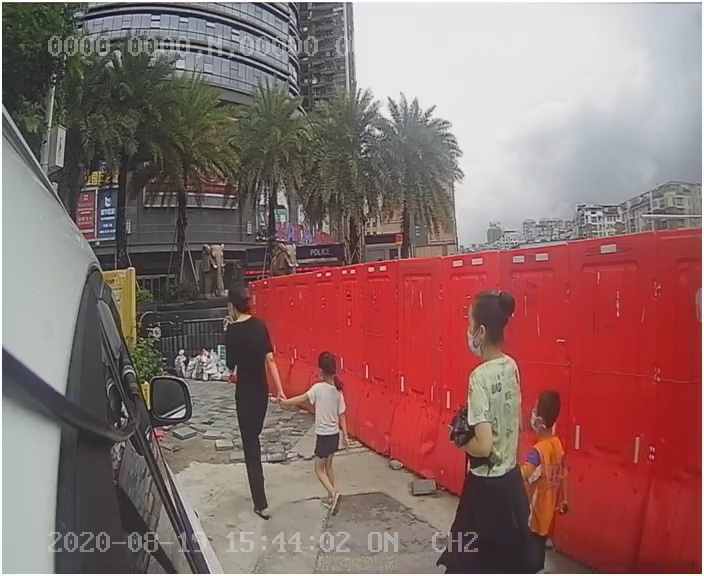person: (423, 286, 536, 518), (212, 287, 289, 521), (279, 349, 370, 515)
